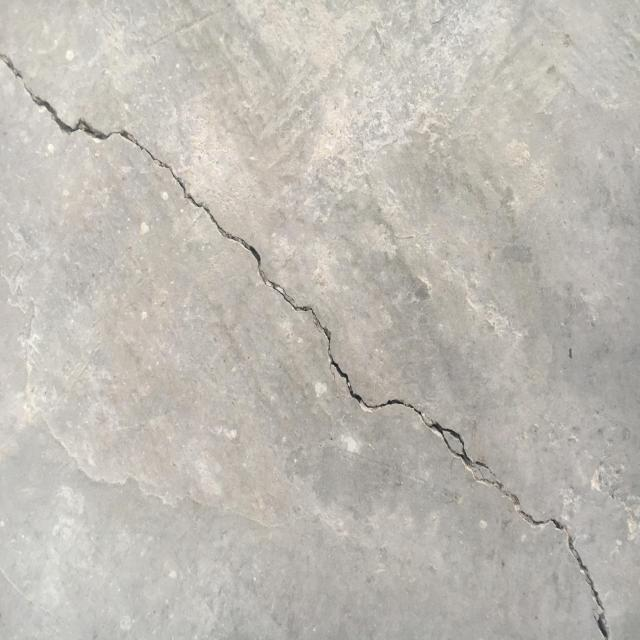Crack: (160, 153, 402, 414), (396, 390, 614, 640), (0, 48, 165, 168)
